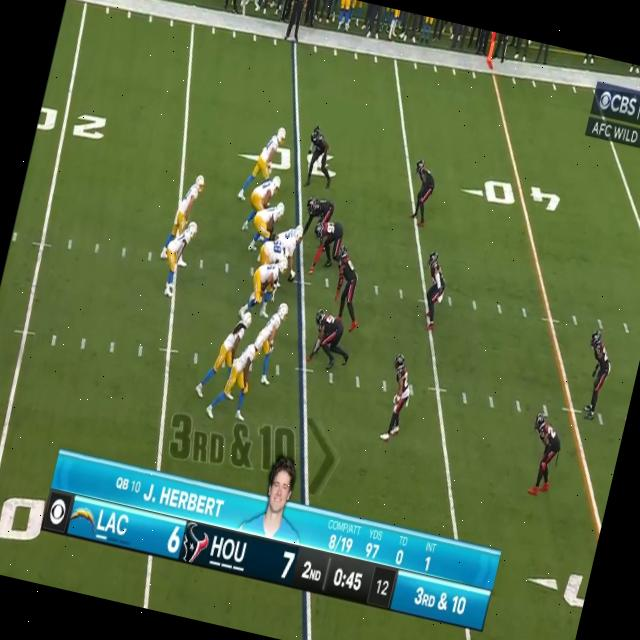Player: (194, 300, 258, 404), (207, 326, 265, 424), (321, 243, 382, 330), (572, 323, 621, 428), (516, 405, 570, 500), (158, 168, 208, 268), (236, 120, 294, 206), (376, 349, 422, 448), (302, 304, 361, 378), (156, 214, 202, 302), (240, 250, 290, 323), (298, 122, 344, 198), (250, 299, 290, 386), (303, 218, 357, 280), (410, 250, 454, 322), (401, 151, 442, 227), (241, 168, 290, 225), (246, 198, 292, 252), (298, 196, 342, 247), (246, 230, 296, 274)
Referee: (282, 0, 309, 48)
